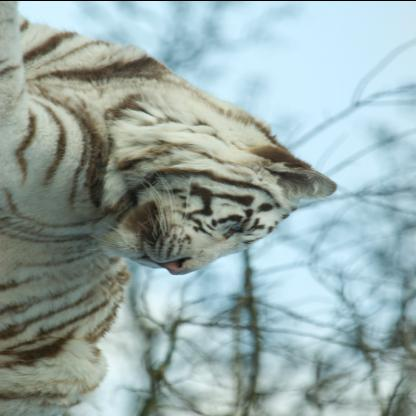tiger: (91, 146, 328, 278)
